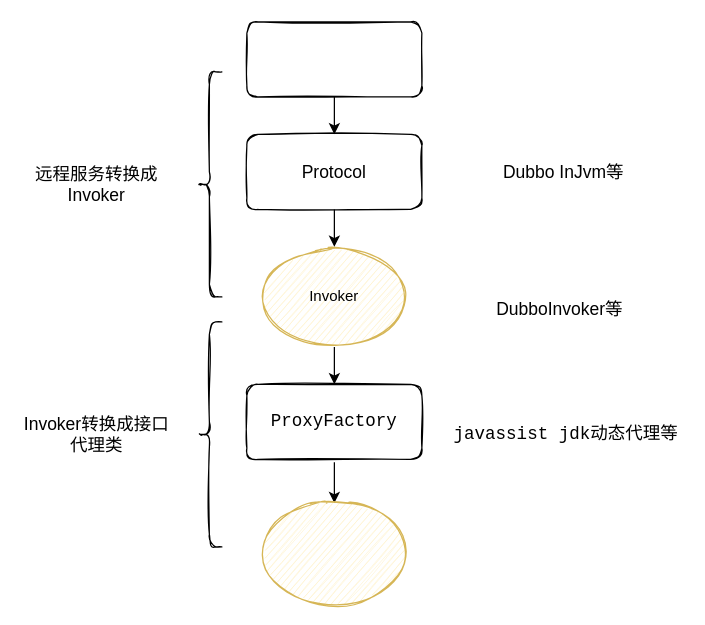
This 705x625 diagram has some shape labels left out. Each missing label, with the centre of its shape:
ReferenceConfig: the point at 334,59
代理类: the point at 333,552
